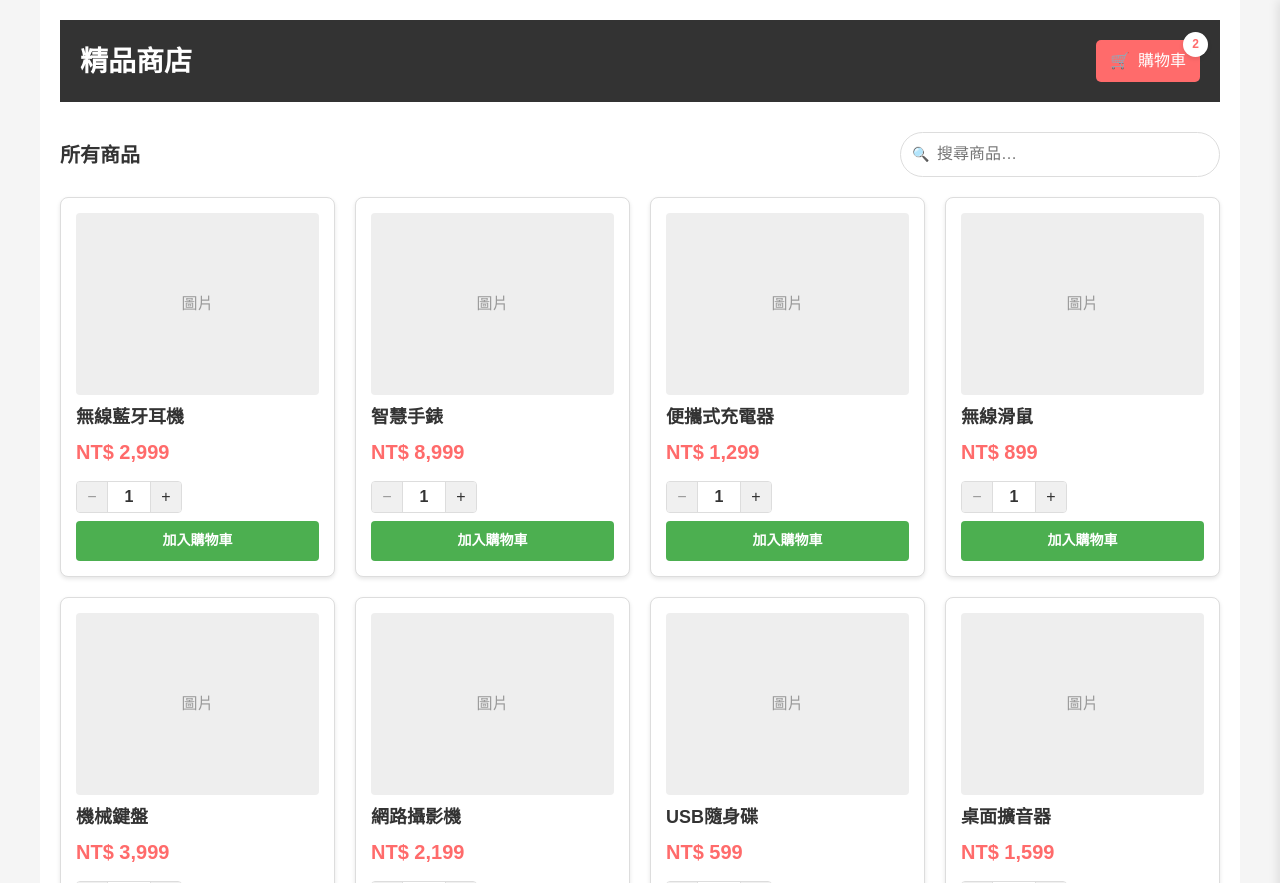
Test: Shop › confirms checkout, clears the cart and shows the order confirmation
Expected: the heading "智慧手錶" is shown, [371,407,443,427]
Step 1. Click the button with aria-label "購物車，共" → x=1148, y=61, box [1096,40,1200,82]
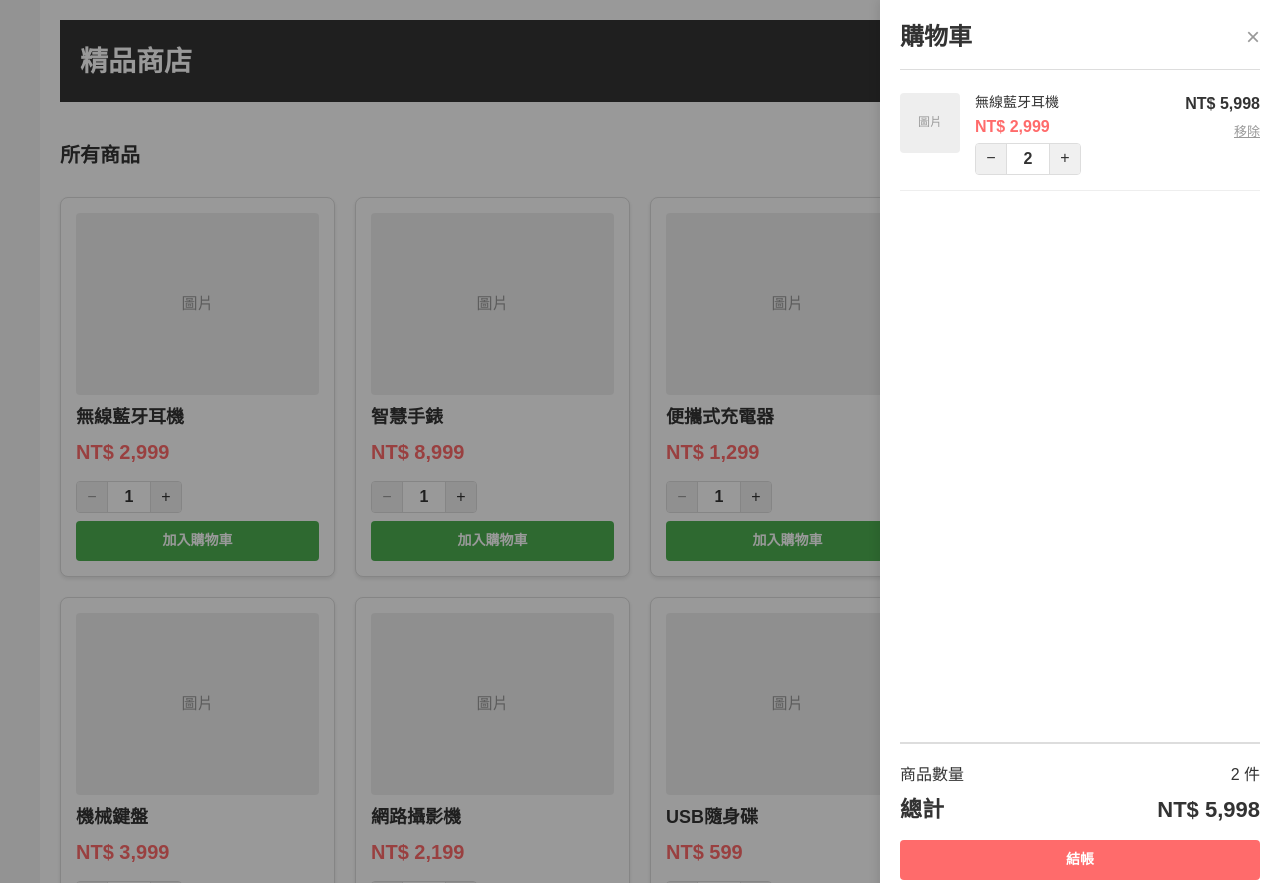
Step 2. Click the button "結帳" → x=1080, y=860, box [900,840,1260,880]
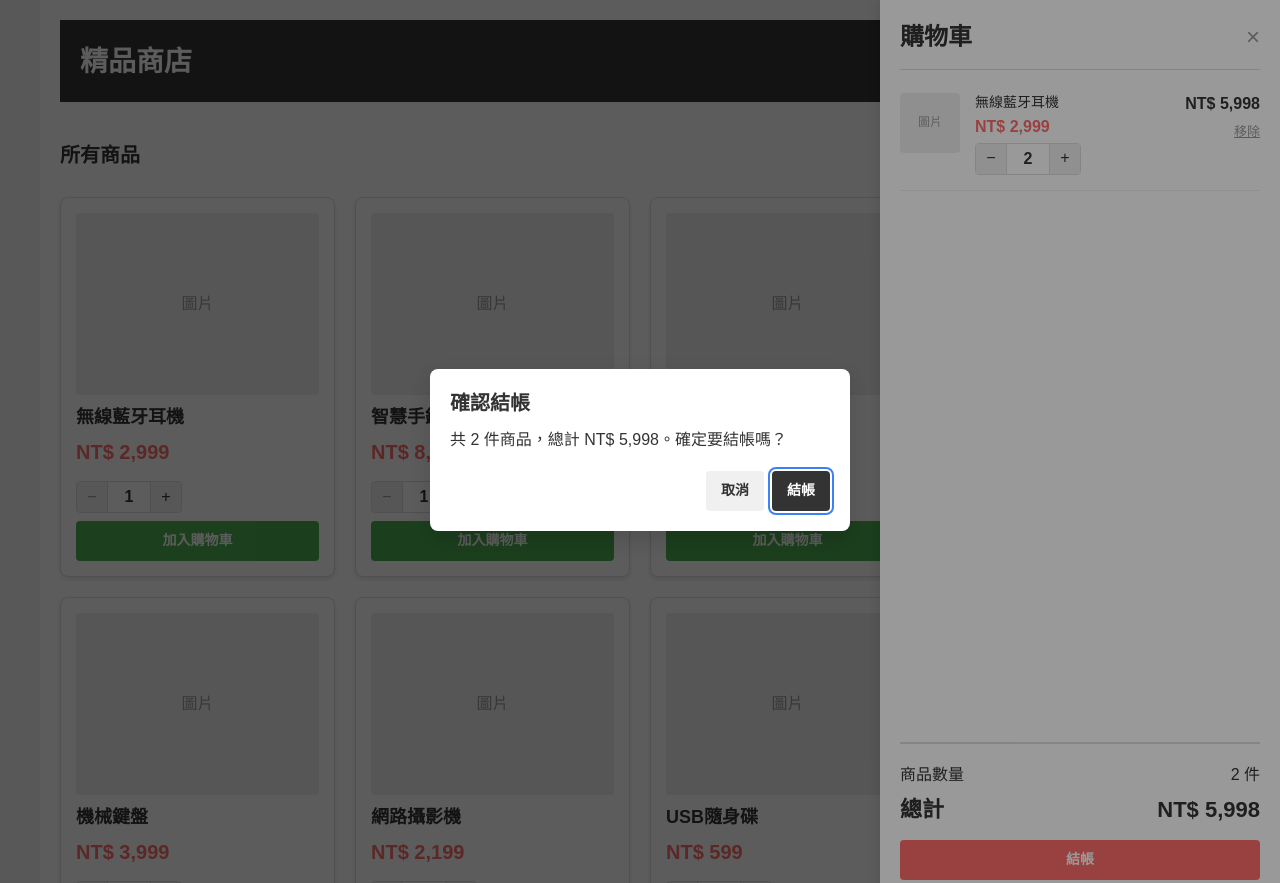
Now the dialog "確認結帳" shows "共 2 件商品，總計 NT$ 5,998", box [450,431,787,448]
Step 3. Click the button "結帳" → x=801, y=491, box [772,471,830,511]
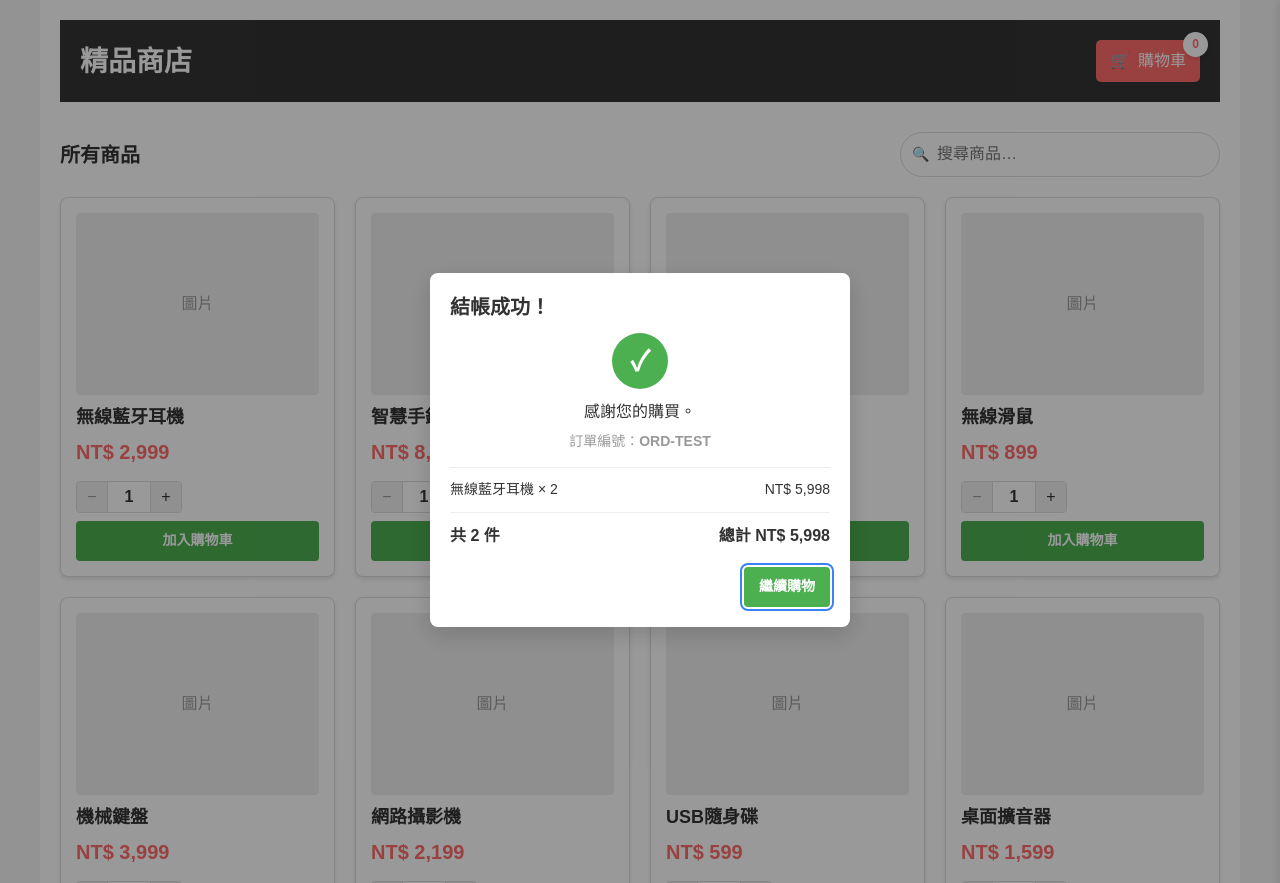
Now the dialog "結帳成功！" shows "ORD-TEST", box [639,433,711,449]
Now the dialog "結帳成功！" shows "無線藍牙耳機 × 2", box [430,273,850,627]
Now the button with aria-label "購物車，共 0 件商品" is shown, box [1096,40,1200,82]
Step 4. Click the button "繼續購物" → x=787, y=587, box [744,567,830,607]
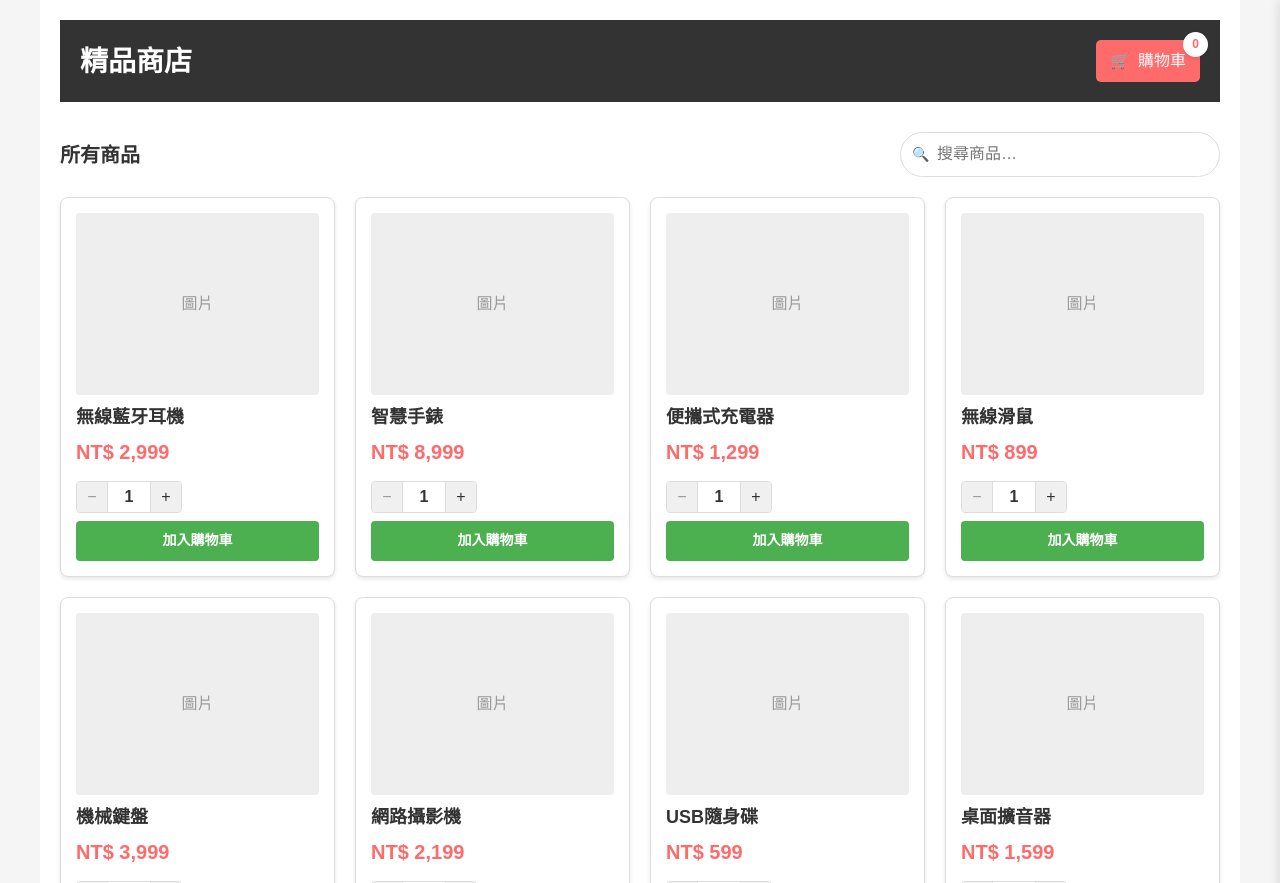
Now the heading "結帳成功！" is gone
